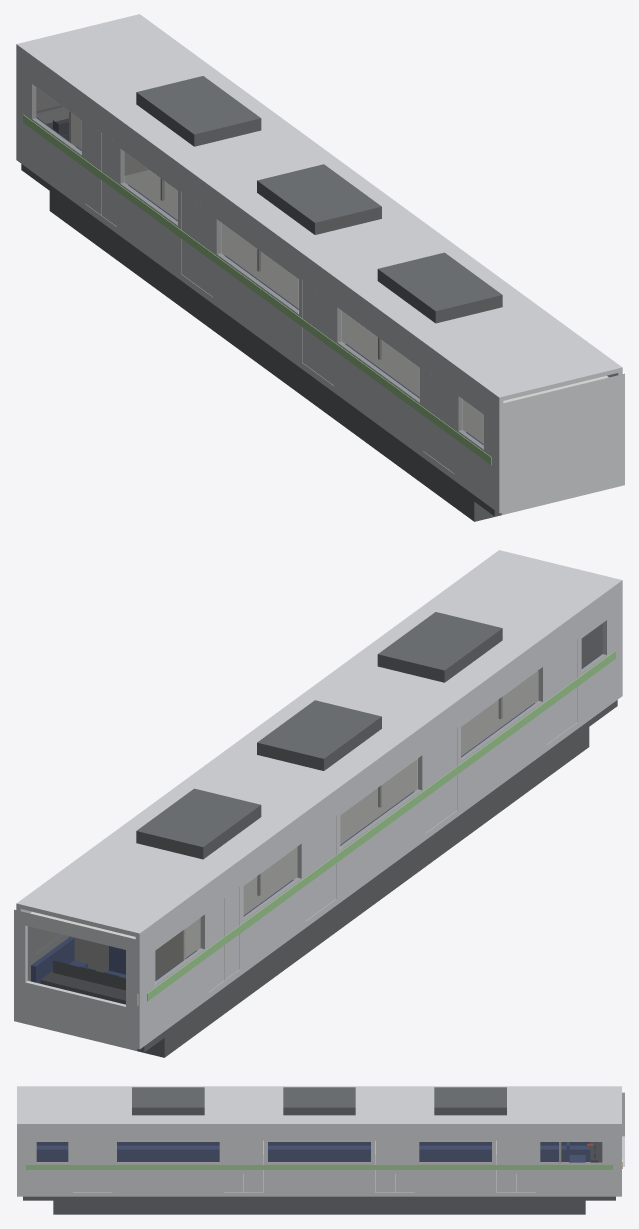
File: metro_motrice.glb
3 views of the same model, one above another, from view 1: azimuth 30°, elevation 25°; view 2: azimuth 150°, elevation 25°; view 3: azimuth 270°, elevation 25° (orthographic). The views are drawn at different scales.
Visible parts, largest first — view 1: E235_motrice; view 2: E235_motrice; view 3: E235_motrice.
Part boxes in pixels (x1,y1,x2,y2): E235_motrice: (16, 14, 624, 521); E235_motrice: (14, 550, 622, 1057); E235_motrice: (17, 1086, 624, 1214).
Bounding box in the file's own units: 2.98 × 3.63 × 20.2.
